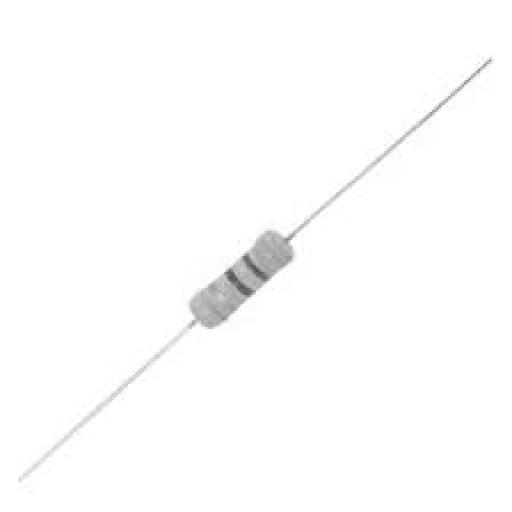RESISTOR: (127, 204, 318, 367)
